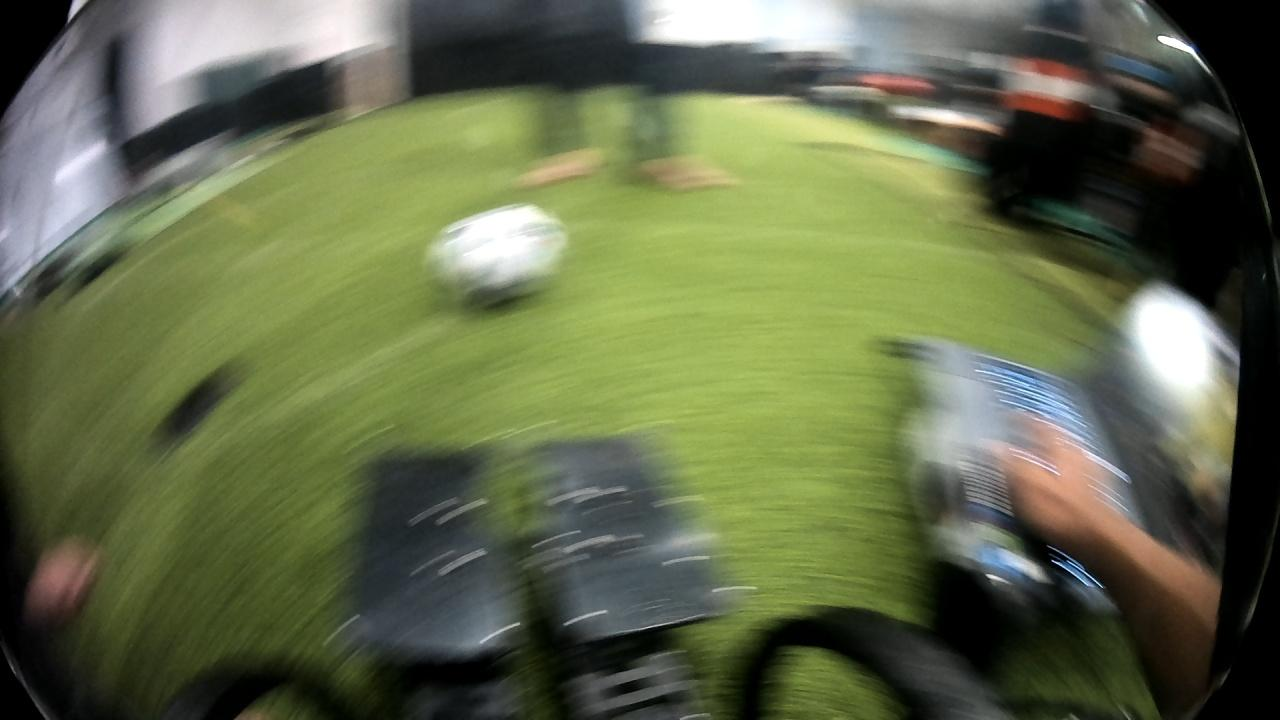ball: (429, 199, 575, 318)
